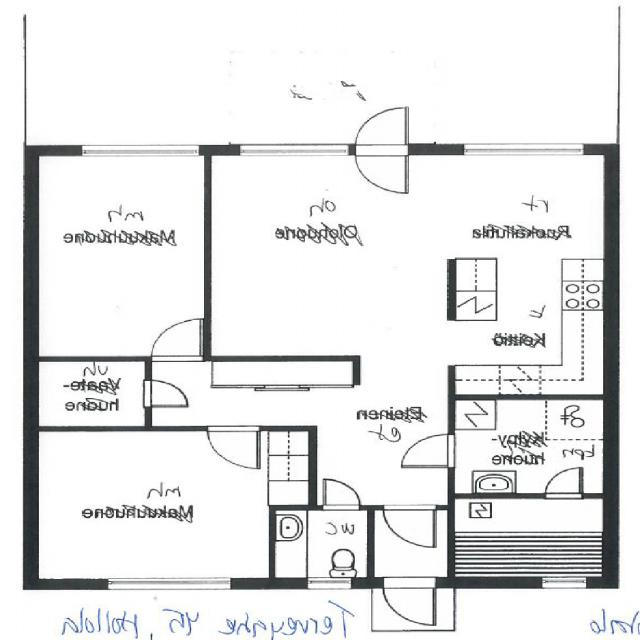door: (355, 145, 408, 193), (355, 107, 408, 155), (383, 578, 436, 625), (383, 505, 436, 548), (208, 426, 261, 468), (153, 323, 200, 361), (402, 434, 455, 466), (545, 466, 583, 498), (323, 478, 360, 510), (145, 380, 189, 406)
